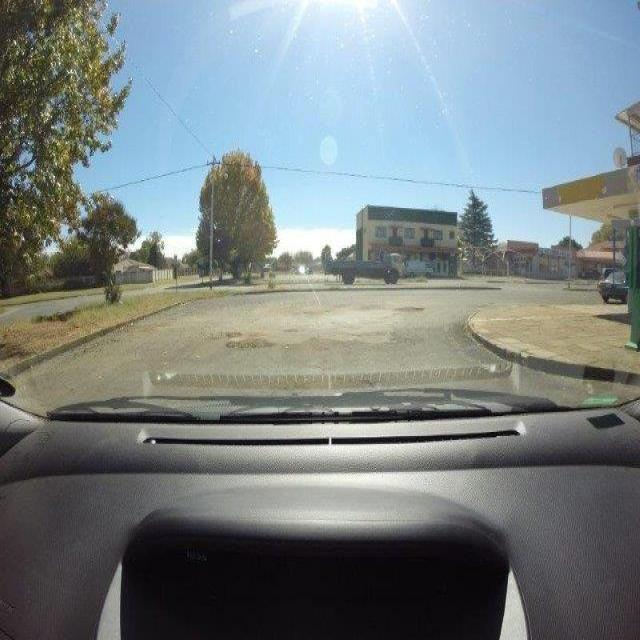lubang: (224, 336, 279, 354), (393, 302, 428, 317), (220, 327, 247, 340), (280, 322, 301, 338)
